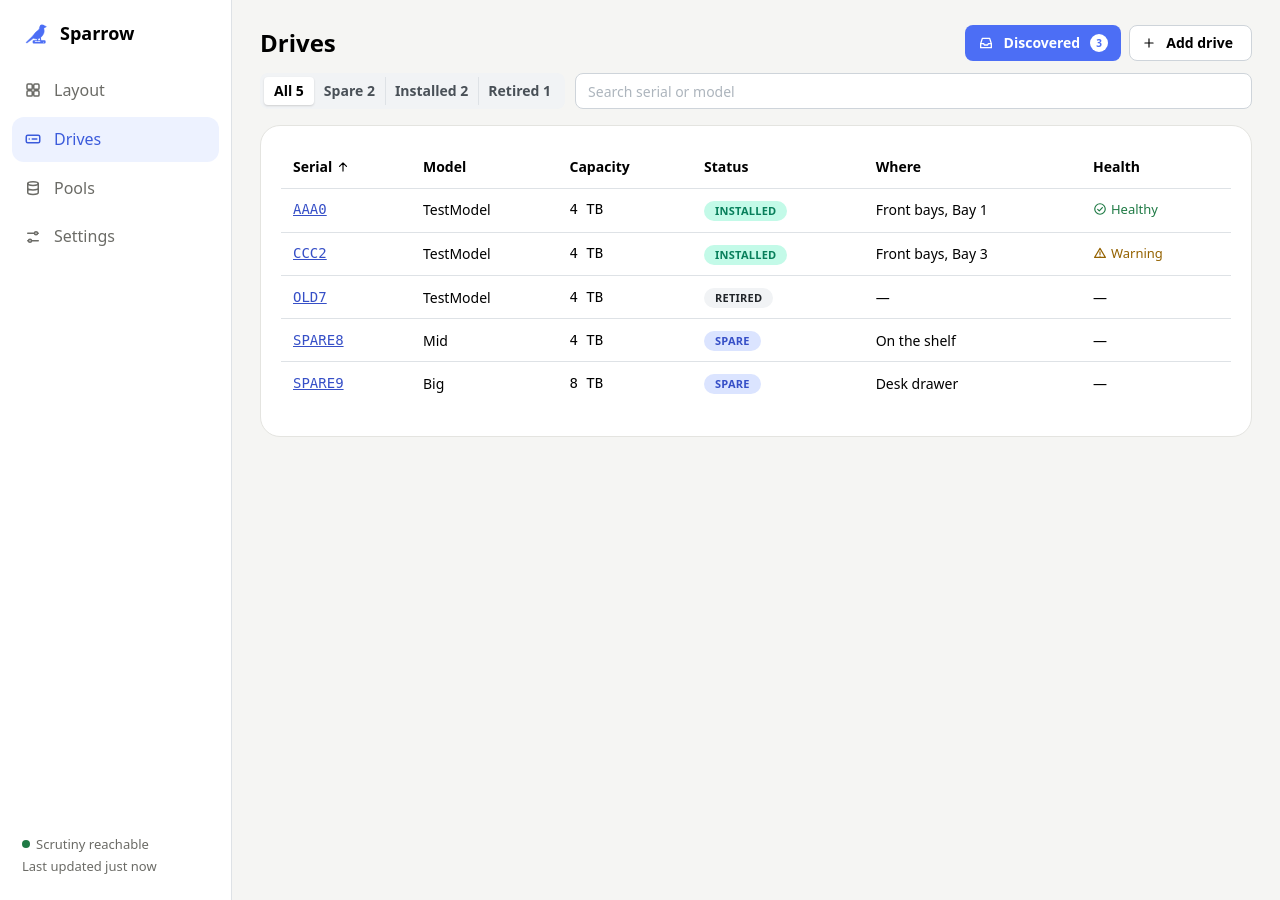
Test: Discovered button on the Drives page (R71) › R71: shows a Discovered button with the count next to Add drive; it opens /drives/discovered
expect the element named "3 discovered" reads "3": met, box [1096,36,1102,50]
expect the button "Add drive" is shown: met, box [1129,25,1252,61]
Step 1. Click the link "Discovered 3" → (1043, 43), box [965,25,1121,61]
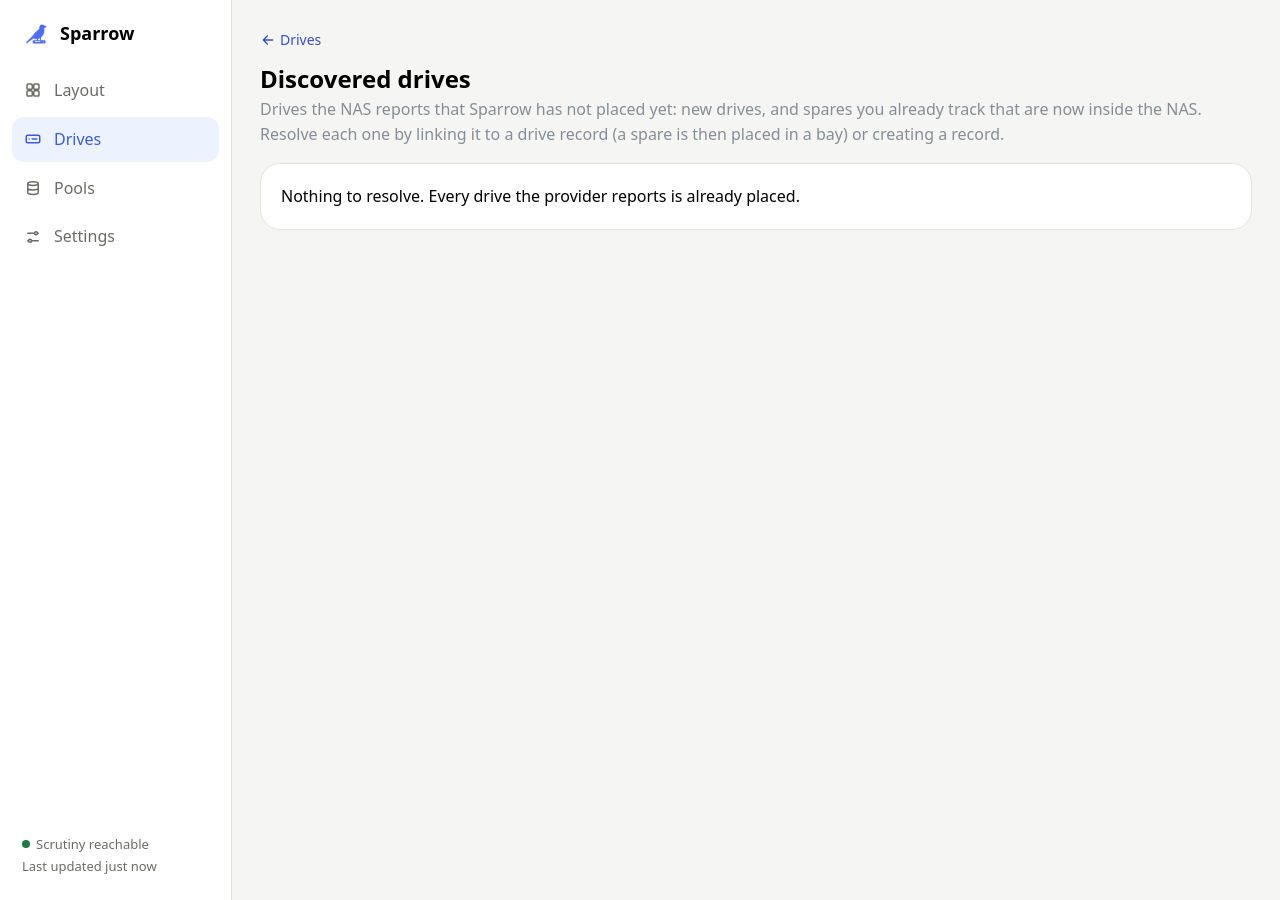
expect the heading "Discovered drives" is shown: met, box [260,62,471,95]
